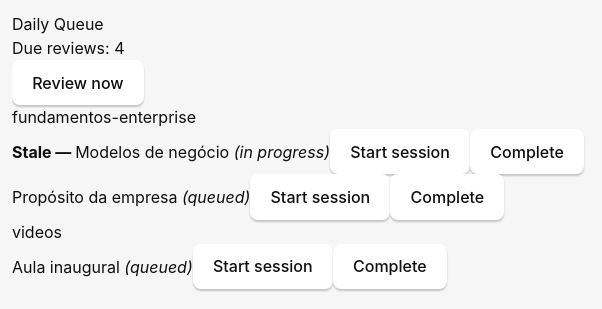
Test: Home screen (Daily Queue) › marks a chunk complete and refreshes the queue
Click the button with aria-label "Complete Aula inaugural". click: (390, 266)
box: [333,244,447,289]
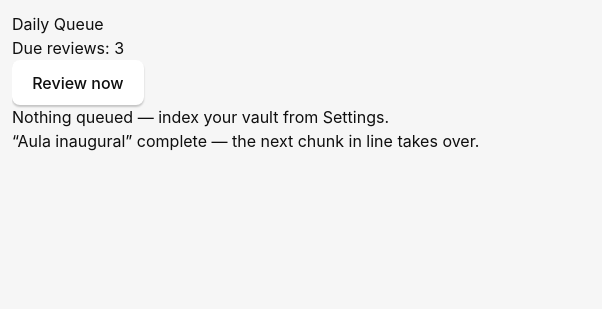
Now the message shows "complete", box [12,131,479,151]
Now the text "Nothing queued — index your vault from Settings." is shown, box [12,107,389,127]
